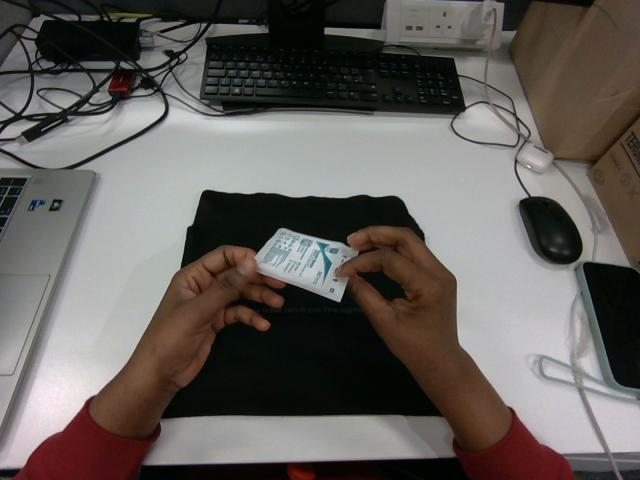gauze: (256, 228, 357, 301)
